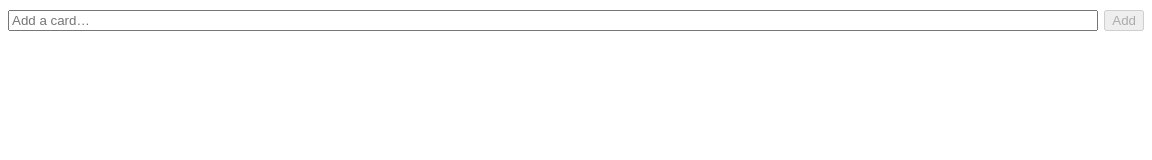
<AddCardForm> › disables Add until the input is non-empty
expect the button "Add" is disabled: met, box [1104,10,1144,31]
Type "Buy milk" into the field labelled "Add a card…" at (553, 20), box [8,10,1098,31]
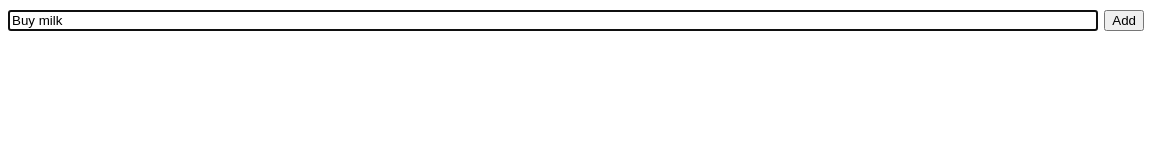
expect the button "Add" is enabled: met, box [1104,10,1144,31]
